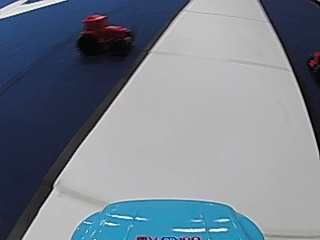tractor: (77, 11, 133, 57), (306, 52, 319, 73)
